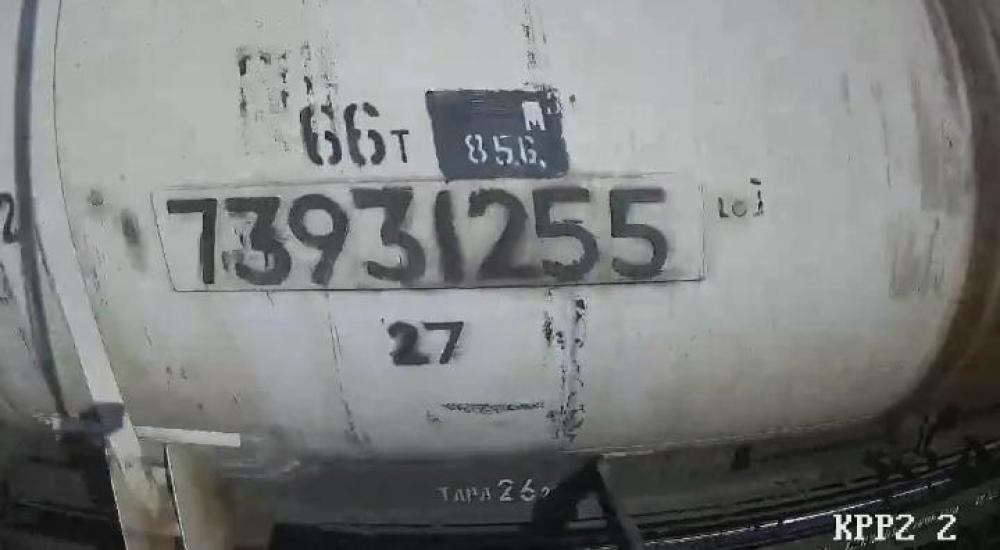Wagon-number: (158, 182, 679, 291)
